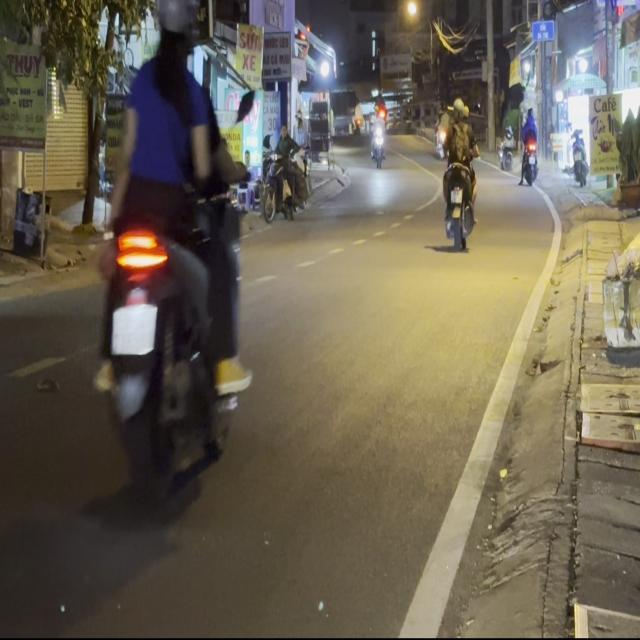helmet: (153, 0, 197, 63)
licenseplate: (90, 0, 248, 520)
nohelmet: (111, 304, 155, 353)
